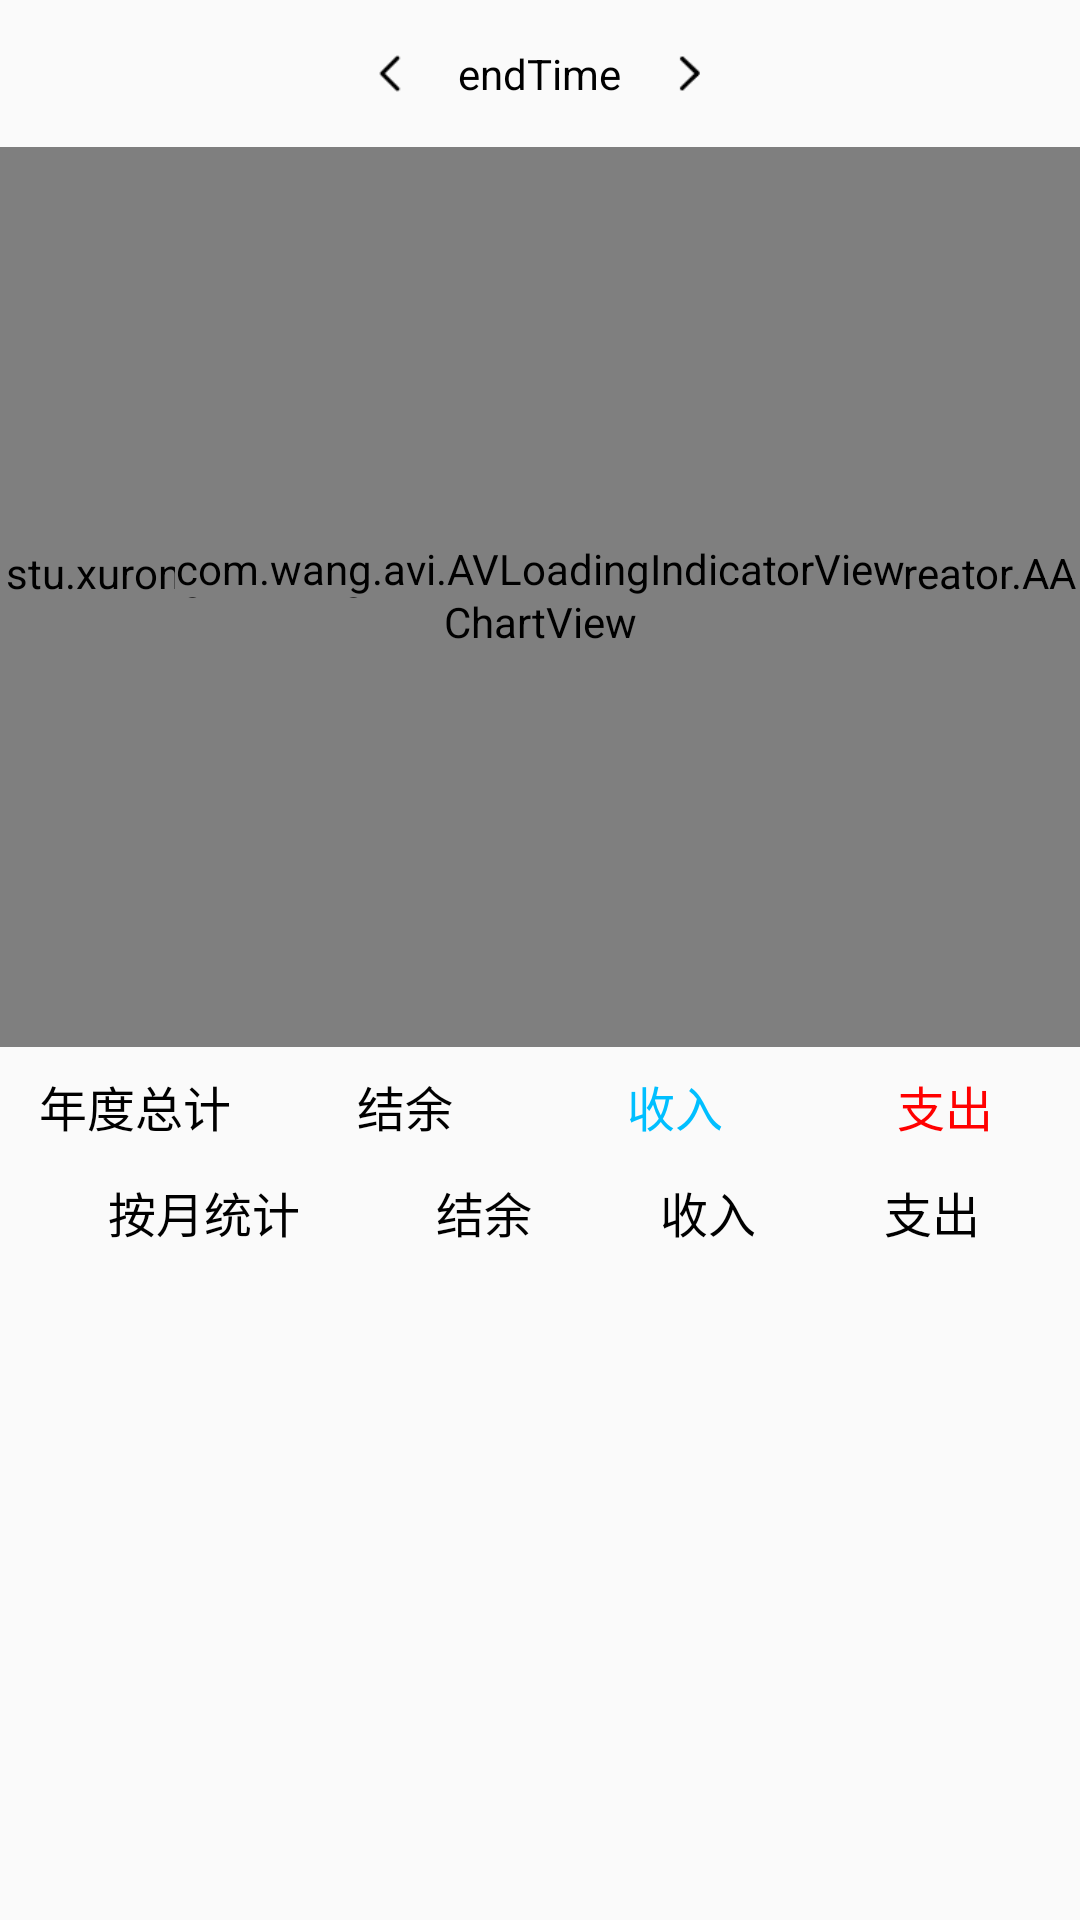

Icons on this 1080*1920 Android screen, each with the point to tap as point (x, y):
left: point (390, 73)
right: point (690, 73)
